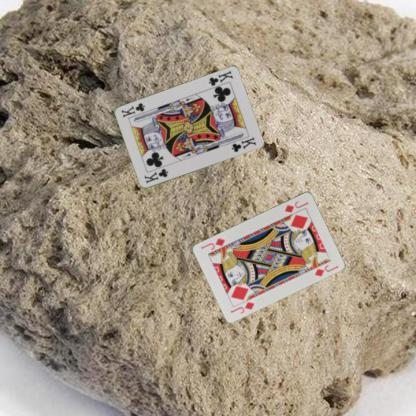Jd: (282, 198, 310, 214), (228, 299, 256, 315)
Kc: (206, 68, 235, 87), (142, 166, 170, 185)
